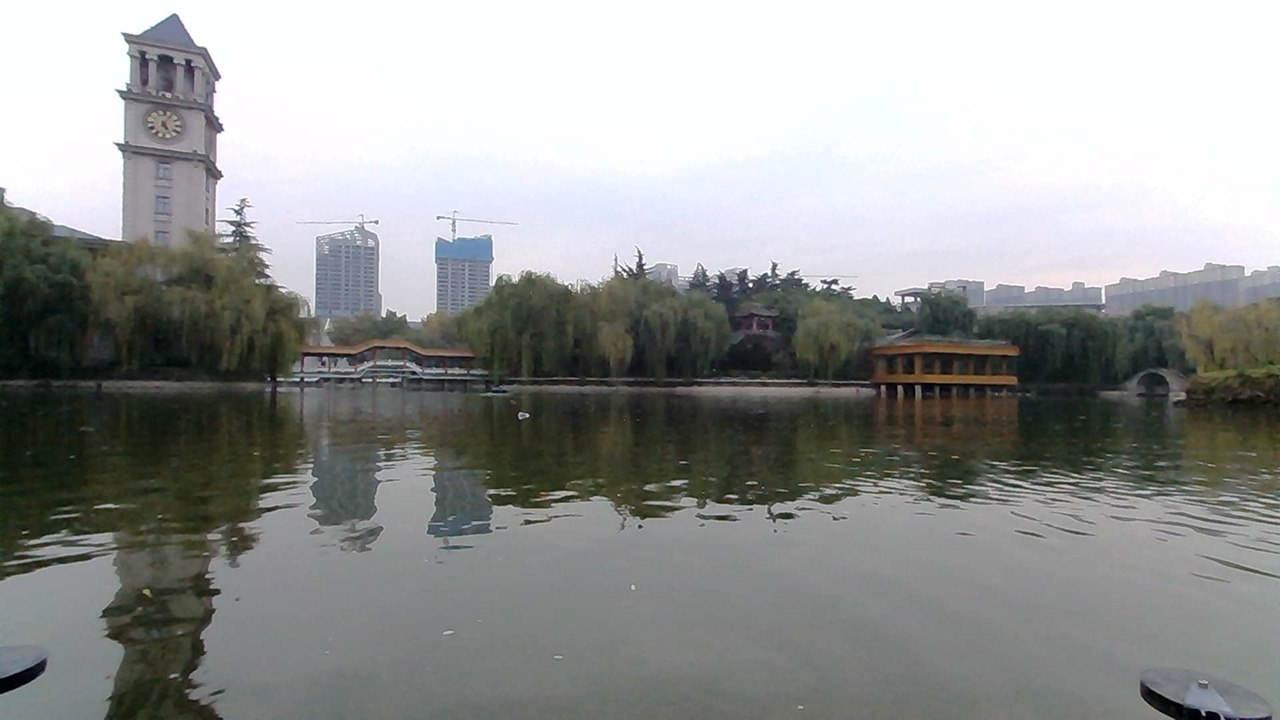bottle: (510, 401, 555, 425)
